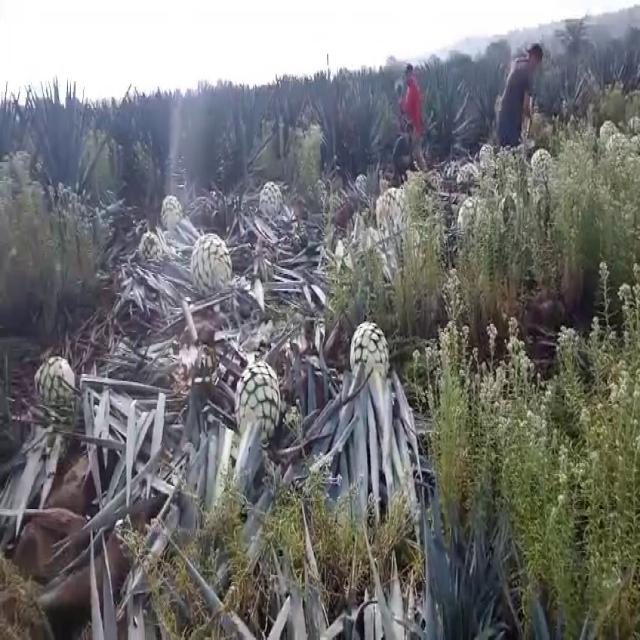agave: (236, 363, 285, 439), (187, 233, 234, 300), (349, 315, 388, 383), (33, 348, 75, 403), (258, 176, 284, 224), (375, 182, 403, 226), (530, 147, 556, 185), (157, 192, 180, 230), (140, 230, 160, 262)
